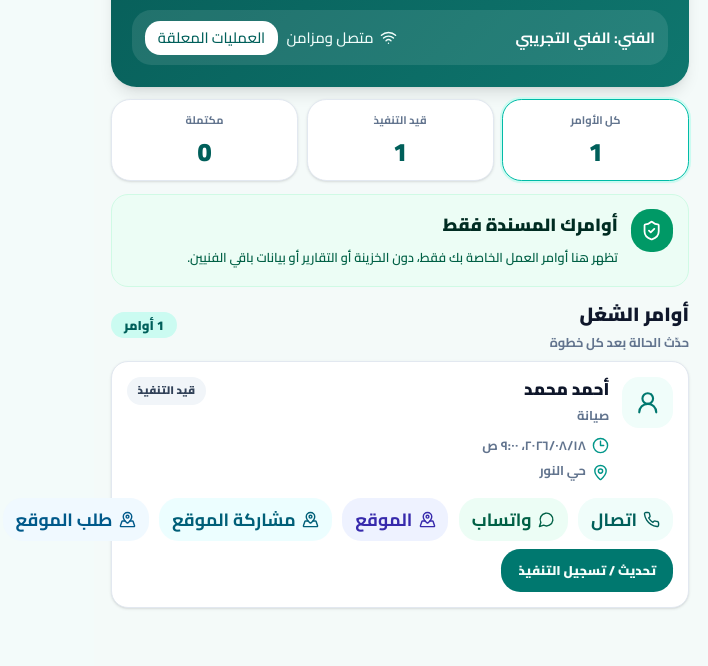
Test: واجهة الفني وأوامر العمل › تعرض خيار التسجيل الصوتي مع إبقاء الكتابة متاحة
Click the button "تحديث / تسجيل التنفيذ".
click(587, 570)  # box x1=501 y1=549 x2=673 y2=592
(page scrolled)
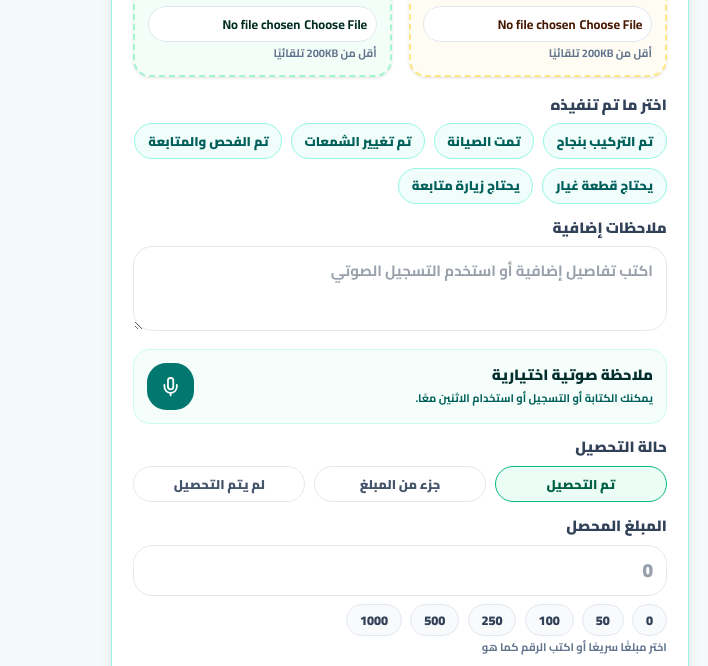
Result: the button named "بدء التسجيل" is shown at x1=147 y1=363 x2=194 y2=410
Result: the text box named "ما تم تنفيذه" is shown at x1=133 y1=246 x2=667 y2=331
